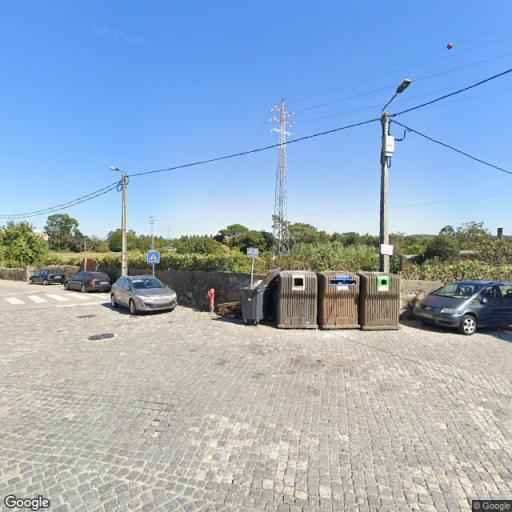ss_3: (266, 96, 297, 258)
